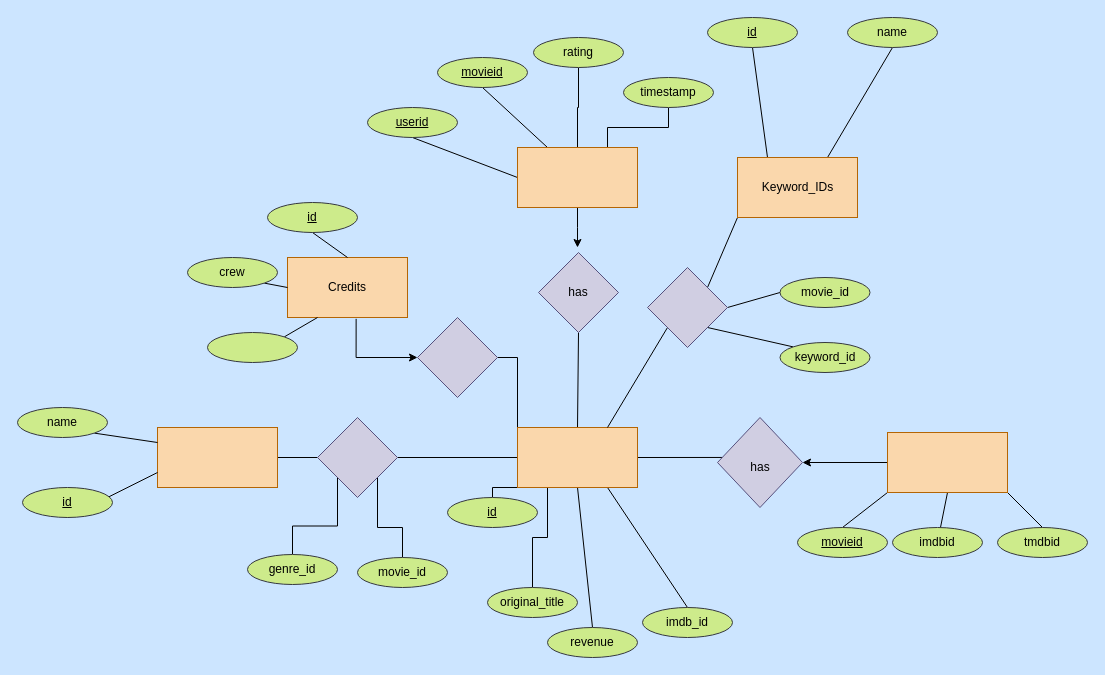
Some shapes in this 1105 by 675 pixel diagram are drawn without their labels. Here are the shapes that lost their labels. From the top down, the centre of each, then its label:
the point at 577,177: Ratings_Small
the point at 687,307: Keywords
the point at 252,347: cast
the point at 457,357: contains
the point at 217,457: Genre
the point at 357,457: Movie_Genre
the point at 577,457: Movies_Metadata
the point at 947,462: Links
